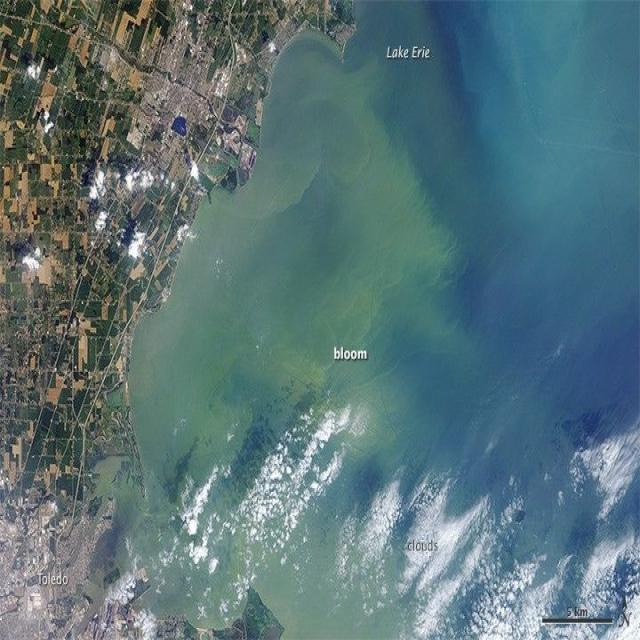algal: (305, 96, 436, 438), (166, 296, 316, 502), (207, 207, 280, 285)
